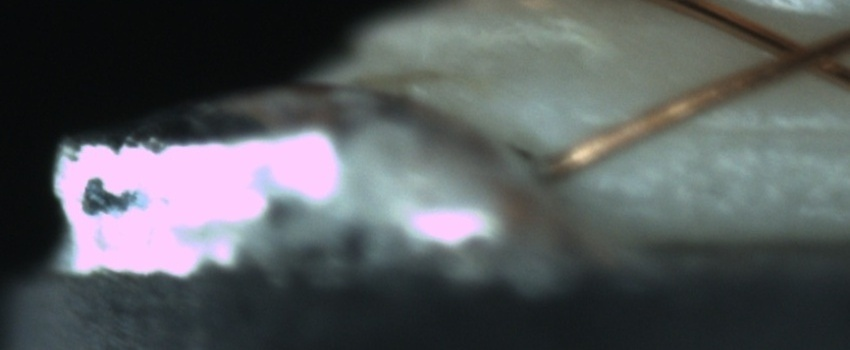CL: (756, 22, 846, 81)
DL: (651, 96, 843, 161)
